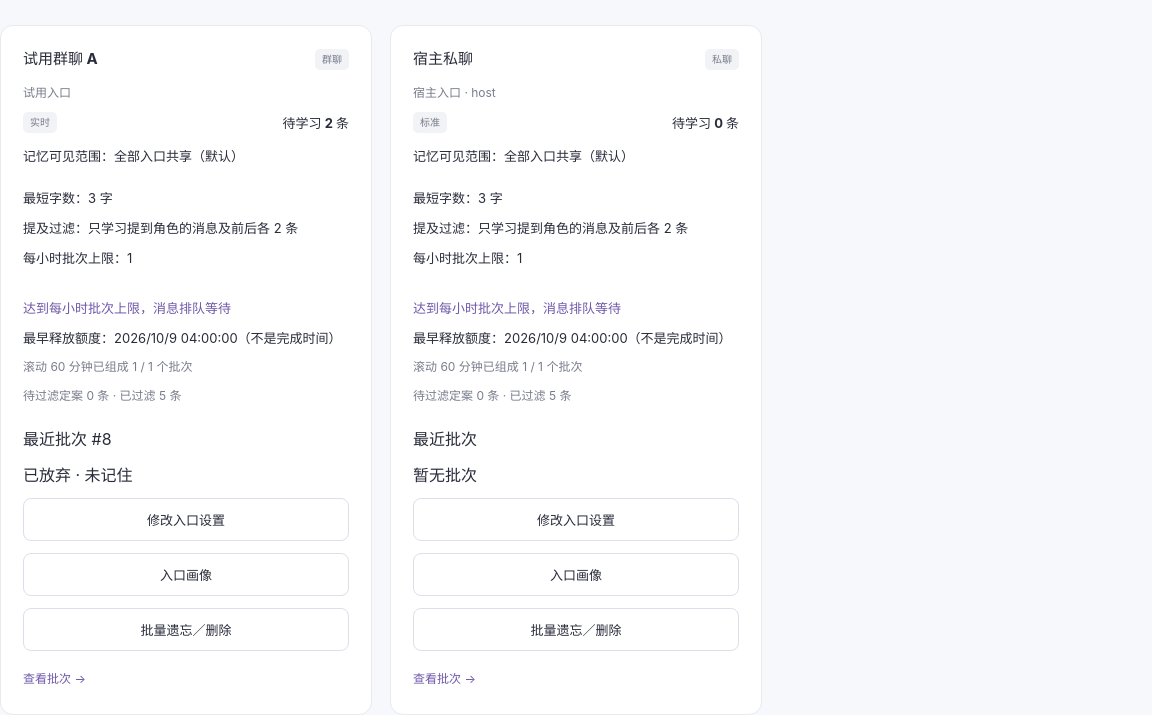
Scenario: 入口卡片提供按直接来源的批量操作入口
This screenshot has width=1152, height=715.
(page scrolled)
Click the button with aria-label "批量遗忘／删除 · 试用群聊 A": (186, 630) [23,608,349,651]
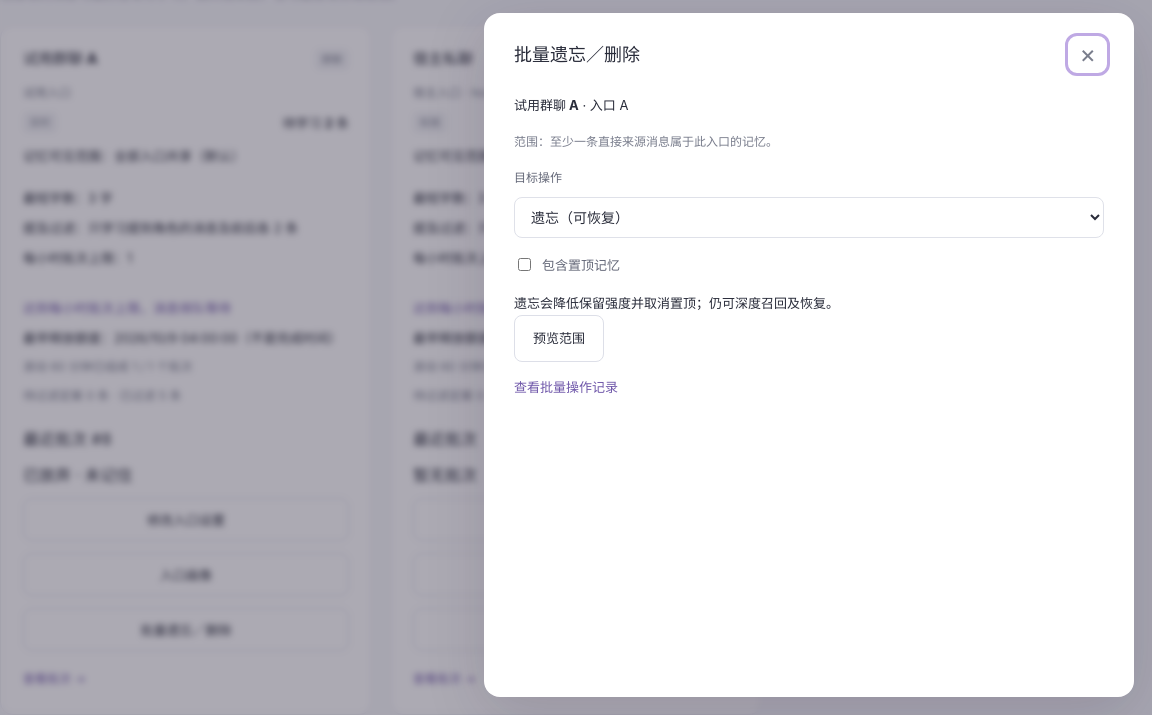
Expected: the dialog "批量遗忘／删除" is shown, [484,13,1134,697]
Expected: the text "范围：至少一条直接来源消息属于此入口的记忆。" is shown, [514,134,778,149]
